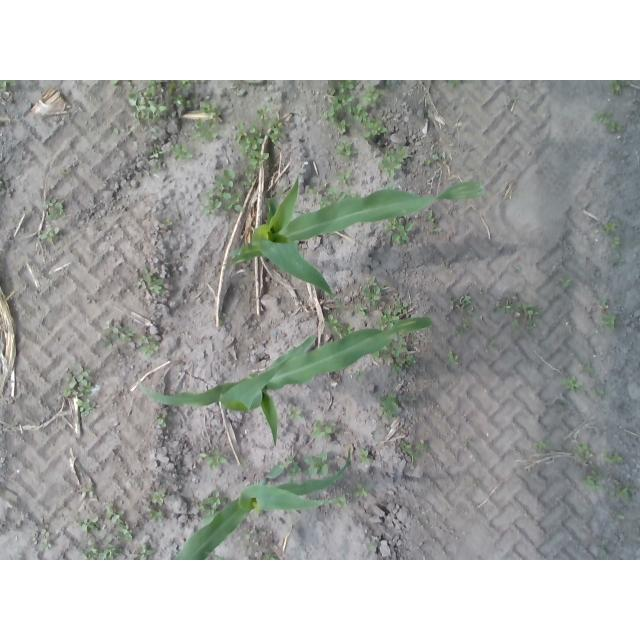Maize: (139, 318, 434, 447), (225, 174, 486, 312), (174, 448, 351, 560)
Weeds: (231, 106, 285, 182), (325, 81, 388, 139), (76, 502, 136, 560), (127, 80, 193, 132), (99, 318, 159, 358), (61, 364, 102, 421), (489, 298, 541, 338), (204, 169, 245, 215), (192, 98, 225, 146), (389, 337, 418, 376), (377, 144, 408, 178), (355, 276, 381, 316), (381, 218, 415, 246), (30, 519, 56, 552), (590, 109, 623, 133), (136, 267, 165, 294), (579, 463, 605, 493), (303, 452, 330, 479), (380, 301, 411, 324), (379, 391, 402, 421), (197, 489, 224, 514), (400, 441, 429, 464), (198, 451, 227, 474), (44, 195, 69, 221), (608, 477, 637, 499), (450, 294, 474, 318), (311, 419, 337, 441), (172, 143, 197, 162), (317, 187, 339, 208), (427, 209, 444, 236), (41, 224, 62, 245), (424, 142, 441, 167), (289, 457, 304, 484), (334, 168, 354, 188), (0, 174, 16, 198), (337, 141, 358, 159), (562, 374, 582, 392), (133, 544, 155, 560), (325, 314, 344, 332), (287, 405, 305, 424), (146, 147, 170, 161), (357, 447, 372, 466), (603, 451, 623, 465), (455, 323, 473, 338), (603, 315, 618, 332), (353, 483, 371, 497), (572, 443, 592, 455), (77, 486, 96, 498), (609, 81, 624, 96), (155, 412, 169, 428), (579, 362, 594, 376), (534, 440, 549, 454), (602, 219, 617, 233), (152, 490, 165, 506), (150, 160, 166, 173), (448, 350, 460, 366), (148, 510, 162, 523), (1, 112, 16, 124), (600, 539, 609, 558), (594, 390, 607, 403), (614, 509, 627, 522), (0, 81, 18, 90), (560, 276, 573, 288), (344, 322, 356, 334), (462, 436, 474, 448), (608, 236, 620, 248), (335, 496, 346, 508), (262, 552, 278, 560), (616, 251, 625, 265), (110, 124, 121, 135), (615, 403, 626, 414), (243, 458, 253, 470), (341, 191, 360, 197), (127, 81, 137, 92), (162, 219, 174, 228), (475, 476, 484, 488), (219, 311, 226, 326), (245, 530, 254, 541), (557, 402, 567, 411), (307, 187, 318, 195), (386, 183, 398, 190), (447, 81, 461, 87), (368, 544, 377, 553), (356, 369, 364, 379), (513, 266, 523, 273), (111, 80, 122, 86), (488, 340, 496, 348), (61, 169, 71, 175), (526, 469, 532, 476), (423, 517, 429, 524), (602, 299, 607, 306)
